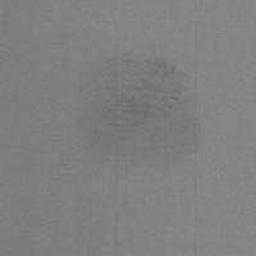Oil spot: (119, 61, 181, 103)
